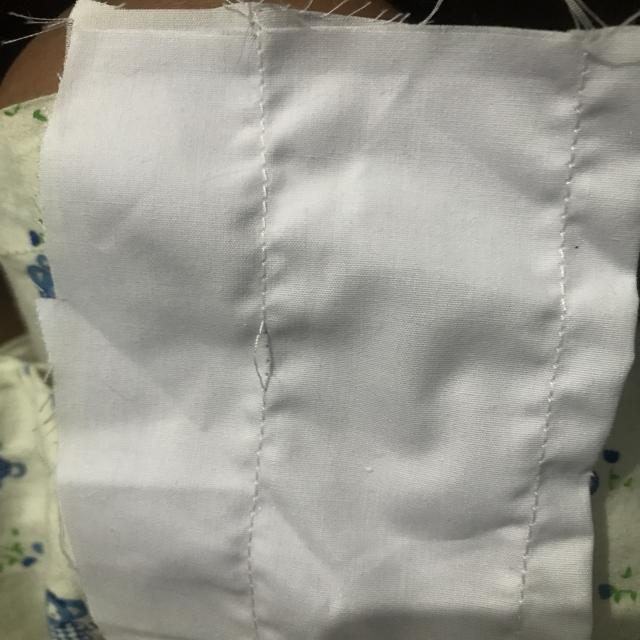good: (235, 168, 288, 268)
skip: (218, 298, 326, 406)
